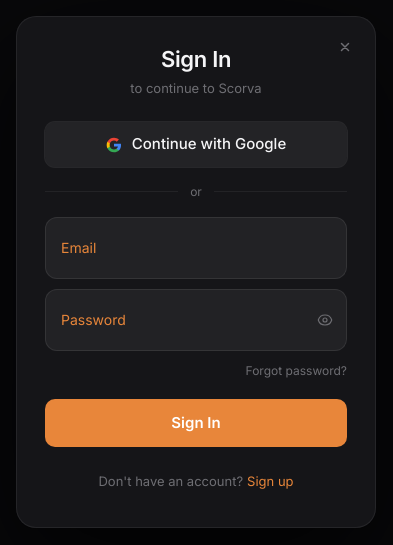
Test case: AuthModal — password reset flow › shows reset form when Forgot password is clicked
The image size is (393, 545).
Click the button "Forgot password?": (296, 371) [246,357,347,385]
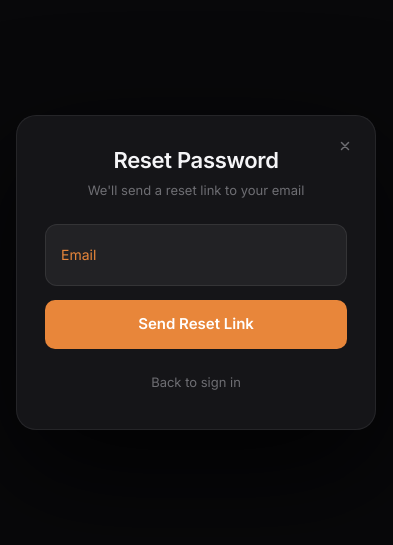
Now the heading "Reset Password" is shown, box [113,146,279,172]
